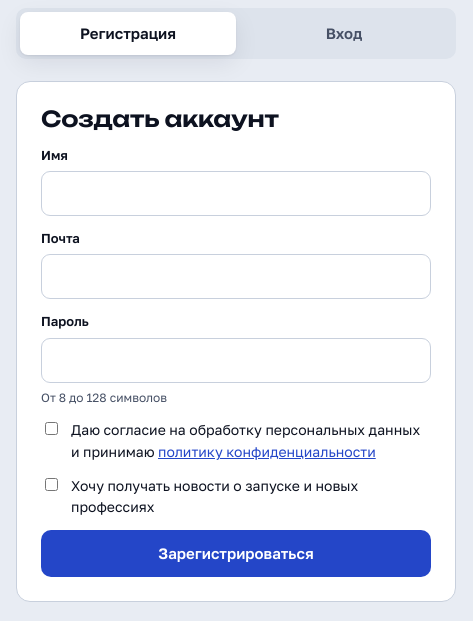
RegisterPage › ошибки сервера из fields — под полями
The width and height of the screenshot is (473, 621).
In the field labelled "Имя": (236, 193) [41,171,431,216], type "Иван"
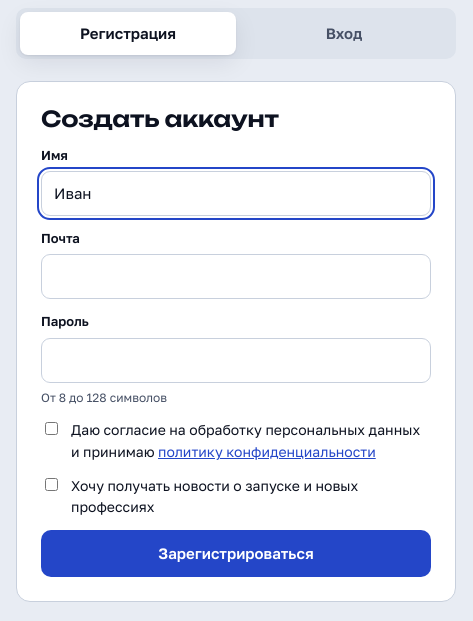
In the field labelled "Почта": (236, 277) [41,254,431,300], type "ivan@example.ru"
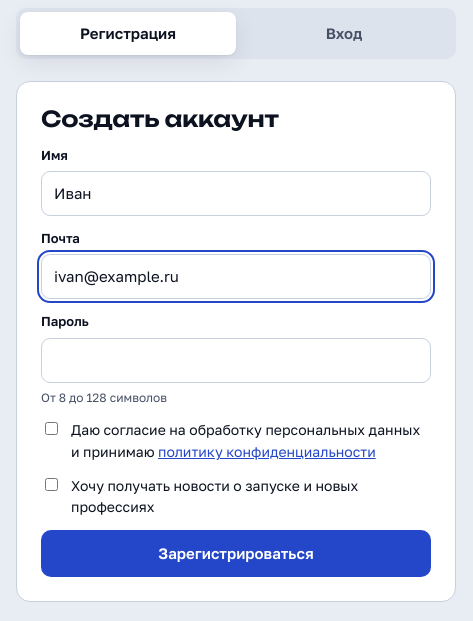
In the password field labelled "Пароль": (236, 360) [41,338,431,383], type "секрет123"
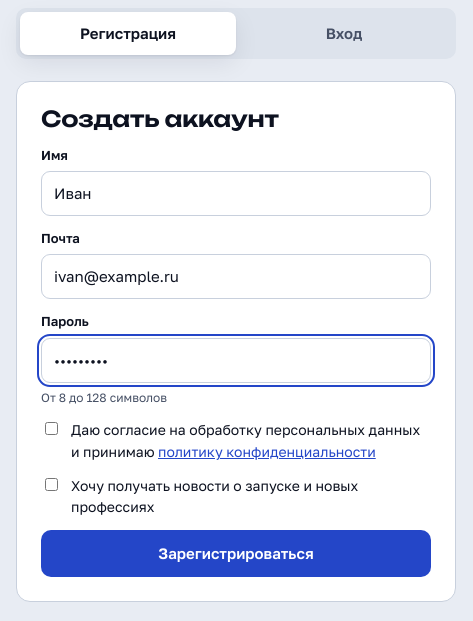
Click the checkbox labelled "персональных данных": (52, 429) [45,422,58,435]
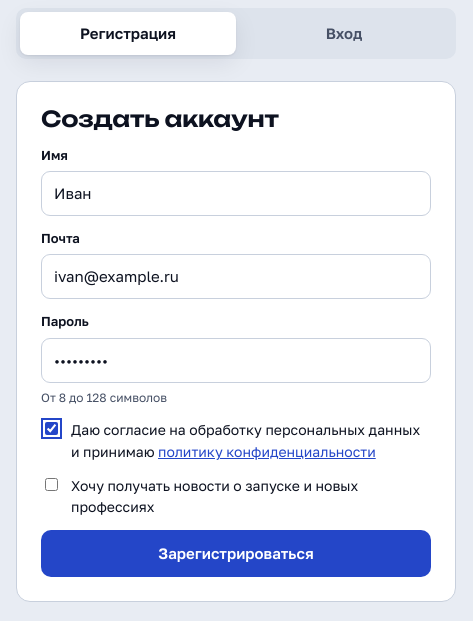
Click the button "Зарегистрироваться": (236, 554) [41,530,431,578]
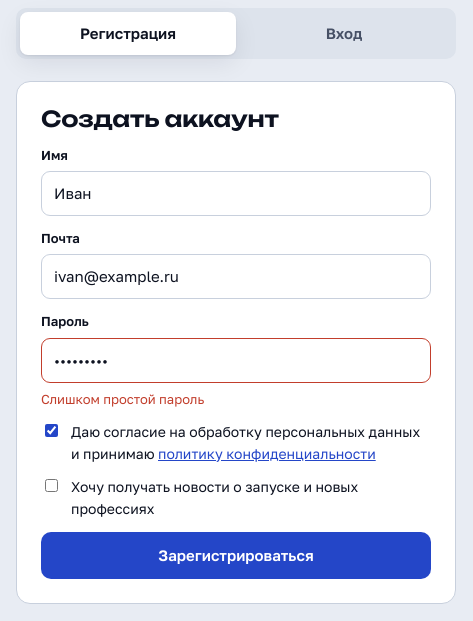
Now the text "Слишком простой пароль" is shown, box [41,391,204,407]
